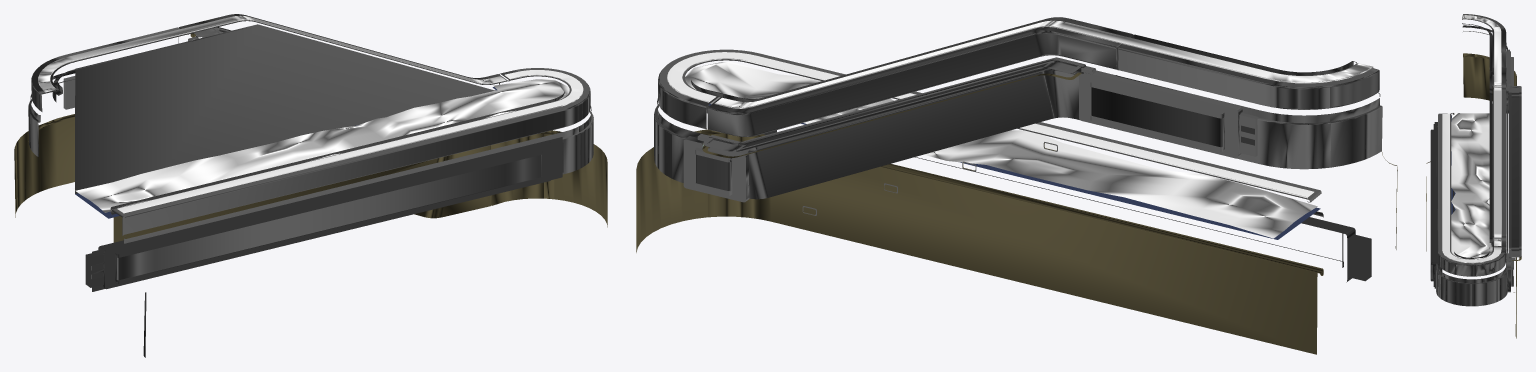
File: roomsm_wall_stairside_08x02_a.glb
3 views of the same model, side by side, from view 1: azimuth 30°, elevation 25°; view 2: azimuth 150°, elevation 25°; view 3: azimuth 270°, elevation 25° (orthographic). The views are drawn at different scales.
Bounding box in the file's own units: 9.73 × 4.23 × 2.17.
